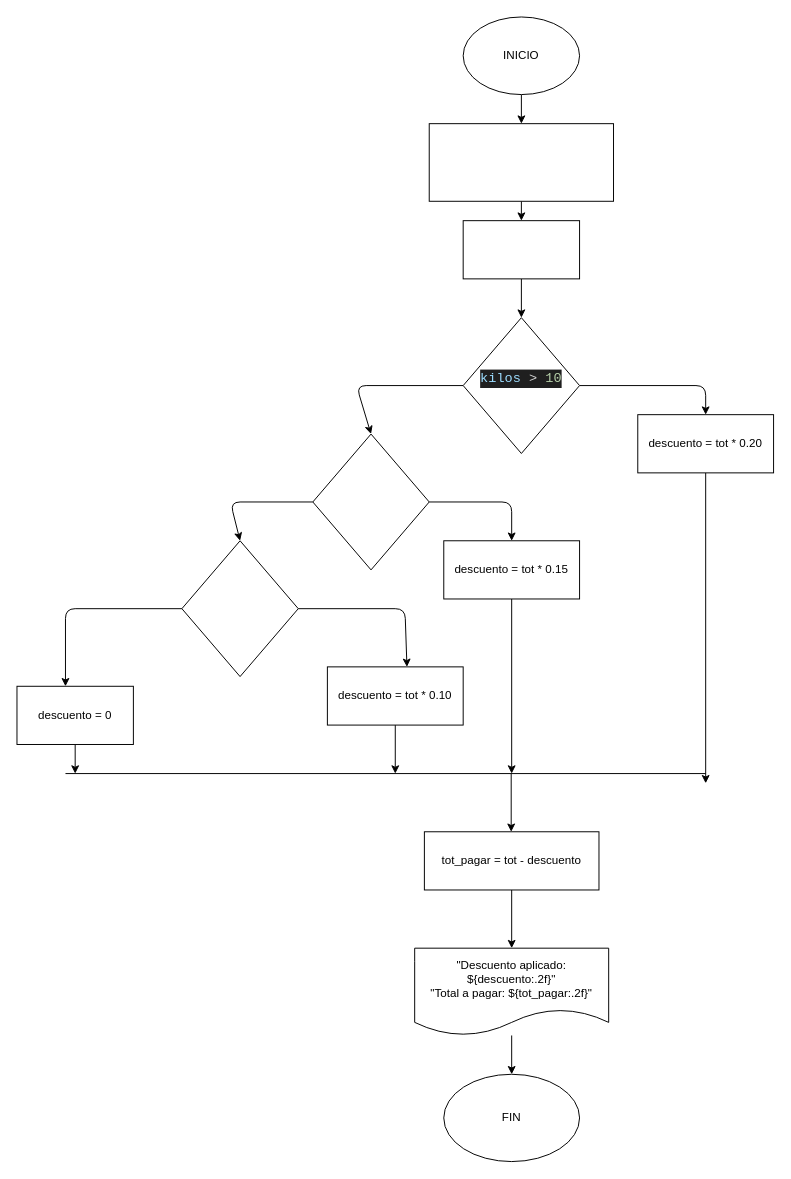
This 791x1179 diagram has some shape labels left out. Each missing label, with the centre of its shape:
"float precio_k float kilos float descuento, tot float tot _pagar" belongs at point 521,162.
"kilos > 2" belongs at point 239,608.
"kilos > 5" belongs at point 370,501.
"tot = precio_k * kilos" belongs at point 521,249.
